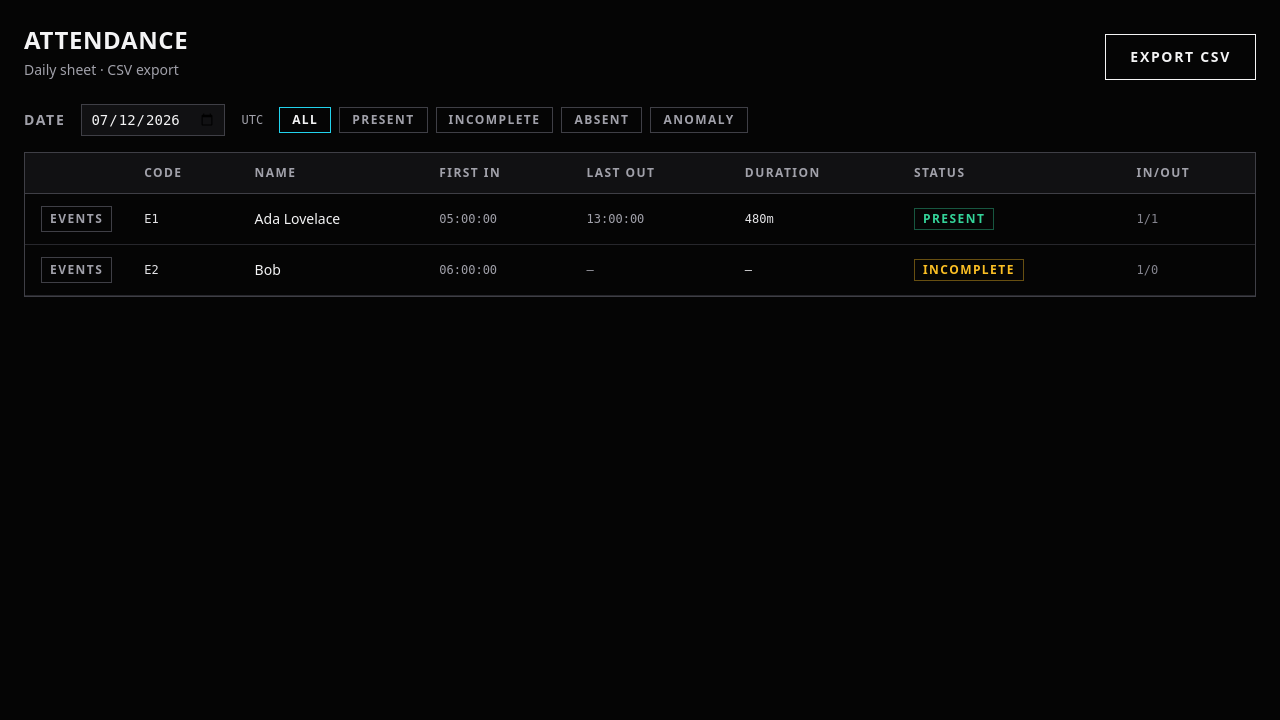
Attendance explainability › opens the sci-fi match reveal for a stored historical event
This screenshot has width=1280, height=720.
expect the text "Ada Lovelace" is shown: met, box [239, 194, 423, 244]
Click the button with test id "expand-1" at (77,219), box [41, 206, 112, 232]
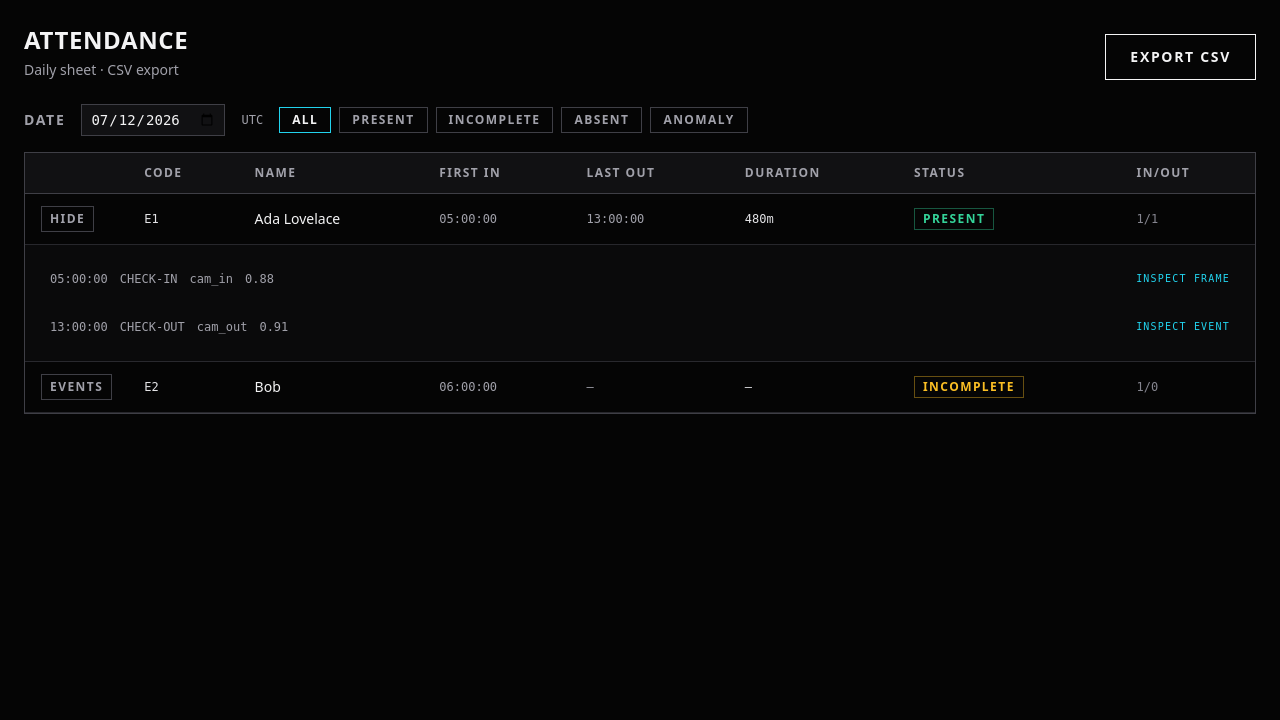
Click the button with aria-label "inspect event 10" at (79,279), box [41, 257, 1239, 301]
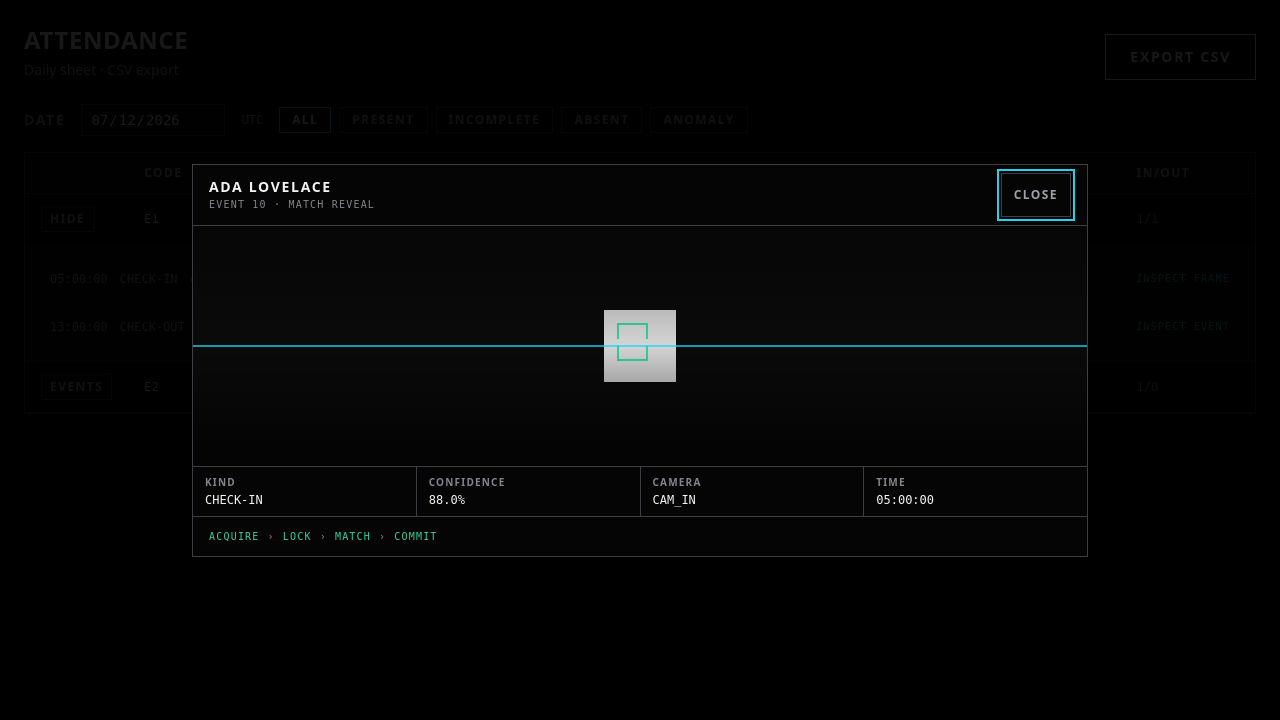
expect the dialog with test id "event-match-reveal" is shown: met
expect the text with test id "reveal-name" reads "Ada Lovelace": met, box [209, 177, 332, 196]
expect the element with test id "reveal-bbox" is shown: met, box [618, 324, 647, 360]
